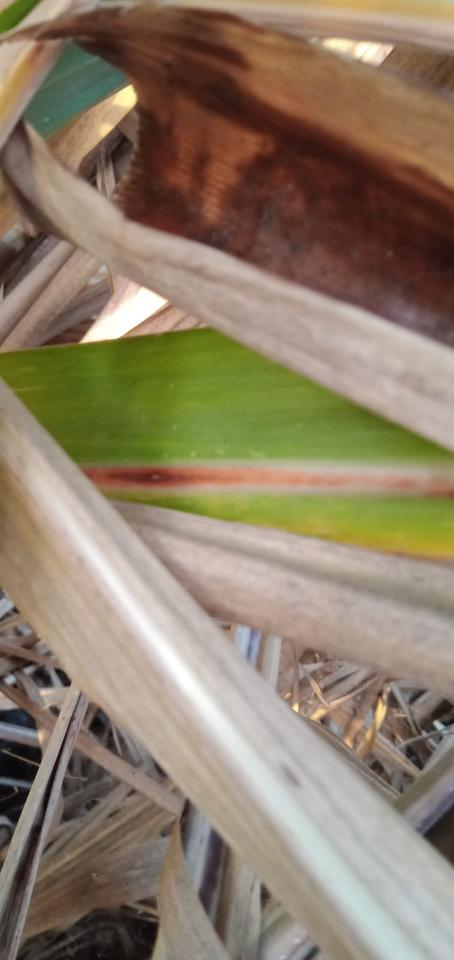RedRot: (81, 467, 454, 497)
